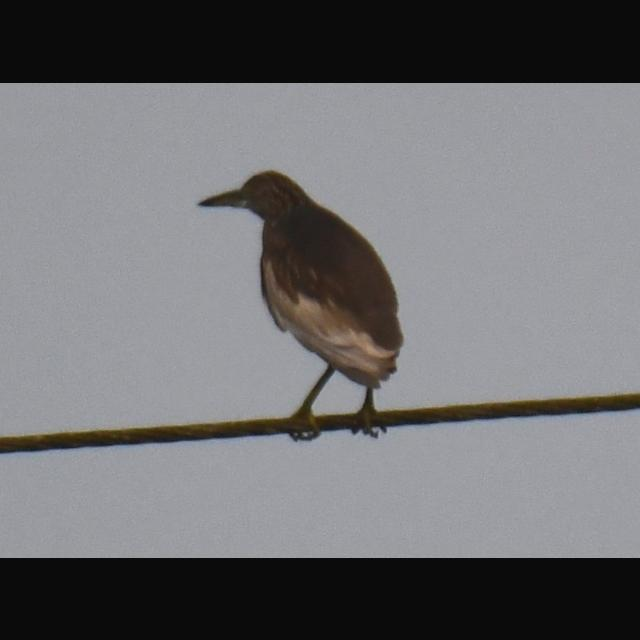heron: (193, 165, 414, 452)
